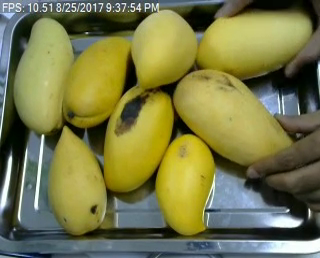Mango: (167, 64, 294, 175), (187, 4, 313, 81), (99, 83, 175, 196), (59, 32, 137, 133), (16, 16, 79, 137), (41, 126, 112, 233), (151, 129, 219, 240), (120, 9, 200, 87)
